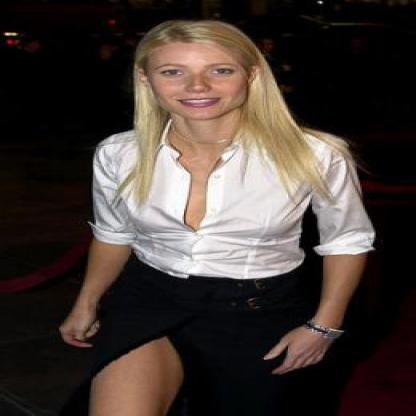face: (148, 29, 251, 121)
